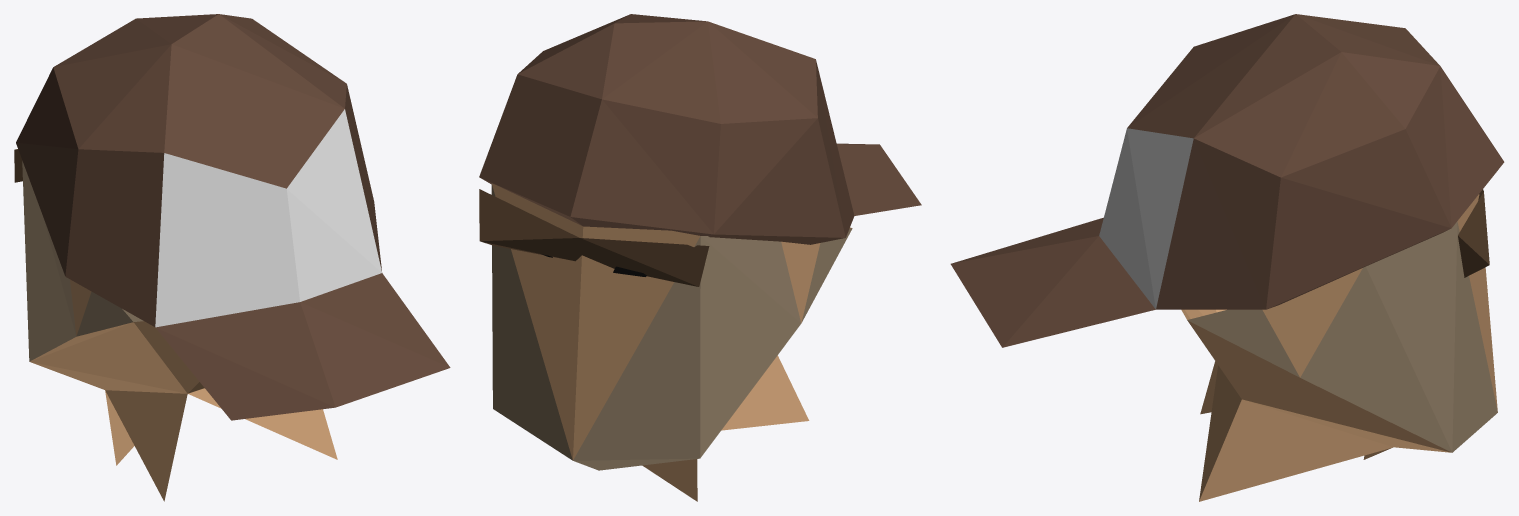
Rendered from Head.obj.
3 renders of one model, left to right at view 1: azimuth 30°, elevation 25°; view 2: azimuth 150°, elevation 25°; view 3: azimuth 270°, elevation 25°, orthographic. The views are drawn at different scales.
Bounding box in the file's own units: 0.2742 × 0.3735 × 0.4099.
Materials: 1 (1 with a texture image).
